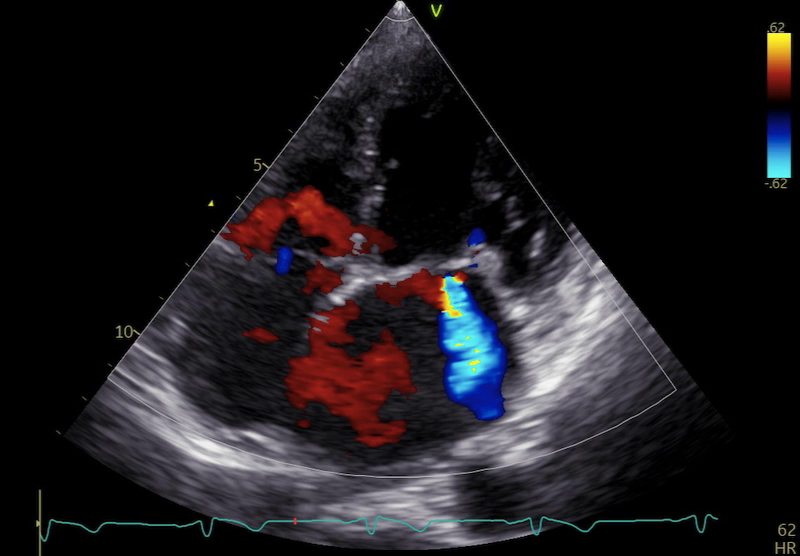MR: (384, 235, 513, 353)
